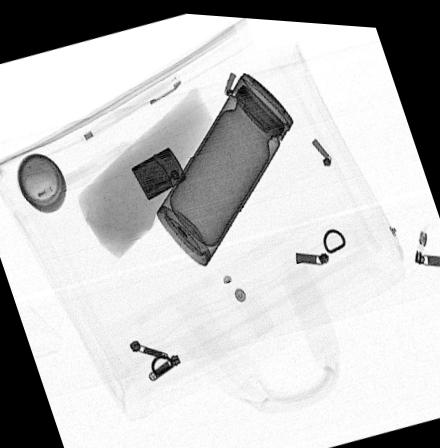Lighter: (129, 144, 185, 199)
